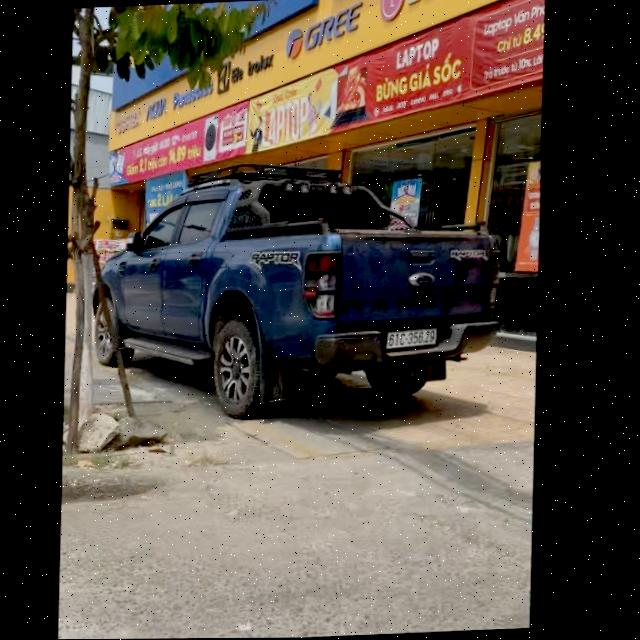car: (87, 156, 521, 432)
plate: (380, 322, 441, 354)
